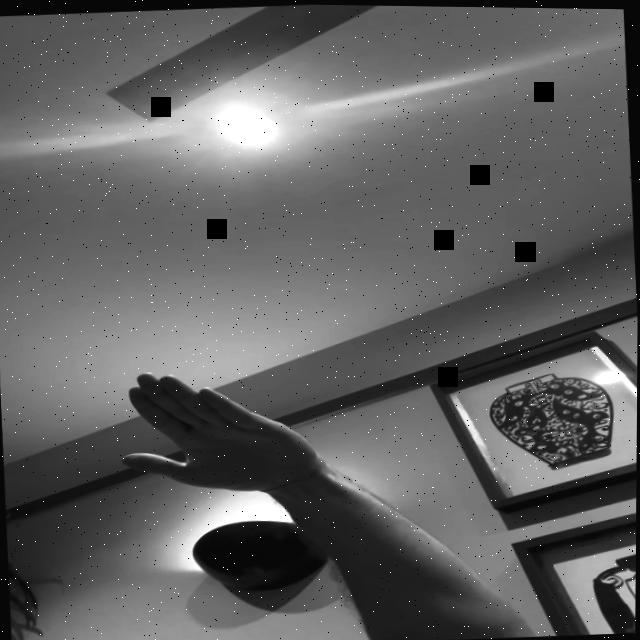Paper: (116, 365, 319, 498)
